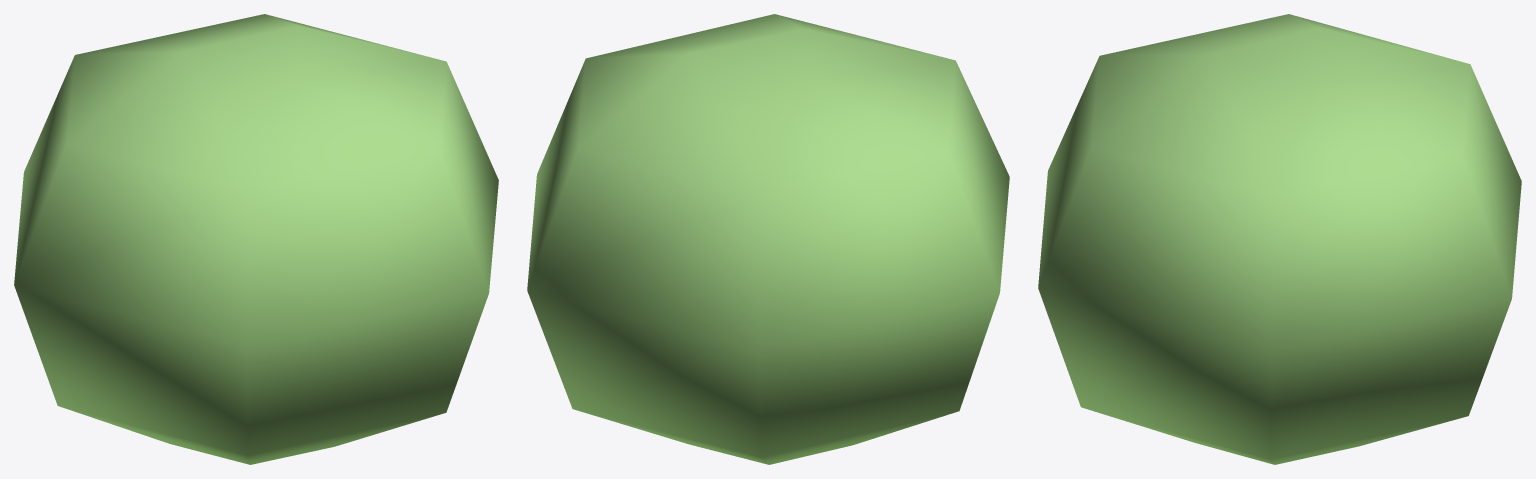
Rendered from LanternGreen.glb.
3 renders of one model, left to right at view 1: azimuth 30°, elevation 25°; view 2: azimuth 150°, elevation 25°; view 3: azimuth 270°, elevation 25°, orthographic.
Parts seen in each view (by area): view 1: LanternGreen; view 2: LanternGreen; view 3: LanternGreen.
Part boxes in pixels (left/top/right/bottom): LanternGreen: left=14, top=14, right=498, bottom=464; LanternGreen: left=527, top=14, right=1009, bottom=464; LanternGreen: left=1038, top=14, right=1521, bottom=464.
Size of the model in its own units: 0.2355 by 0.1765 by 0.2082.
